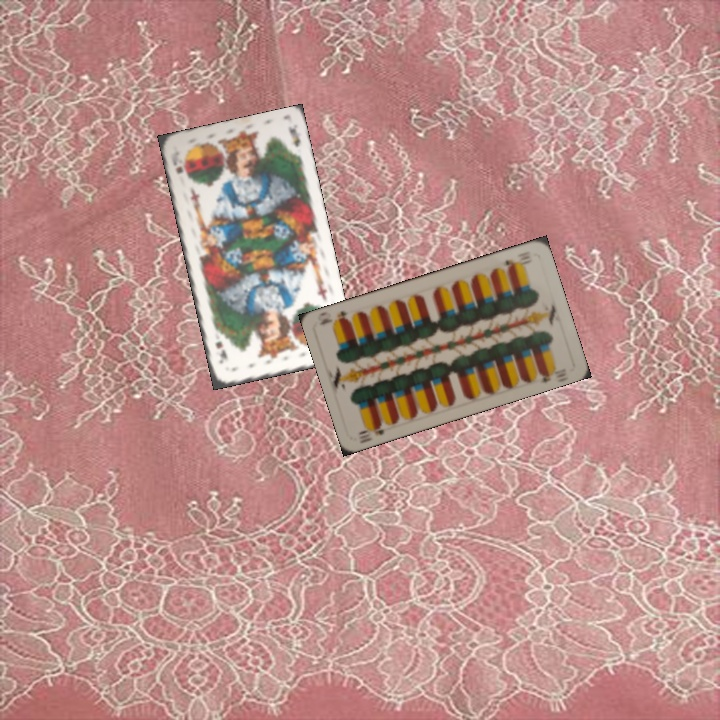E10: (501, 251, 532, 271), (355, 419, 387, 438)
SK: (169, 147, 185, 176)
